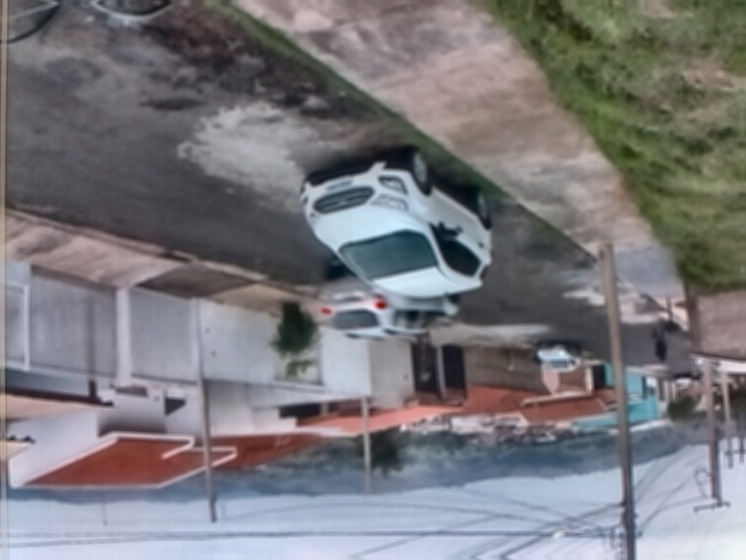person: (651, 325, 668, 363)
